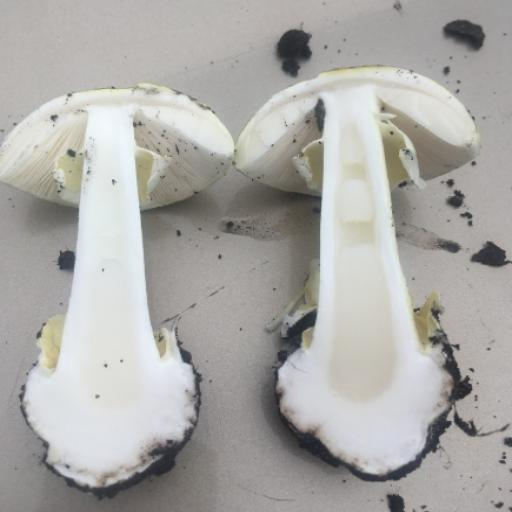Death Cap: (0, 58, 499, 493)
